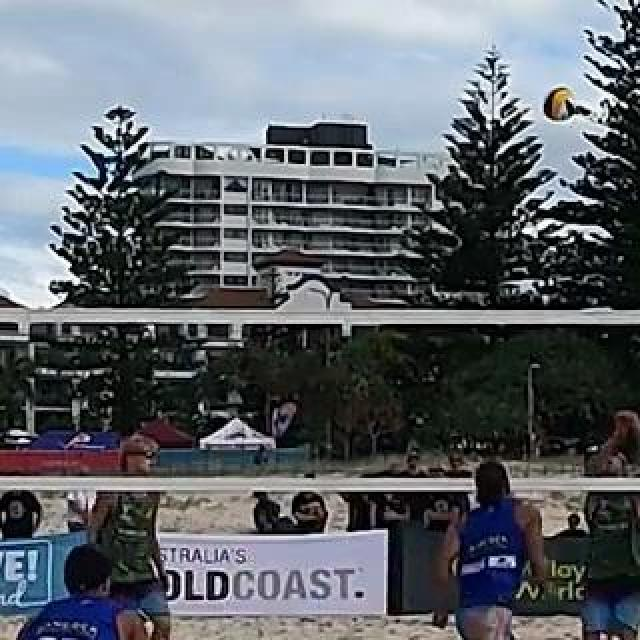volleyball: (542, 87, 576, 121)
